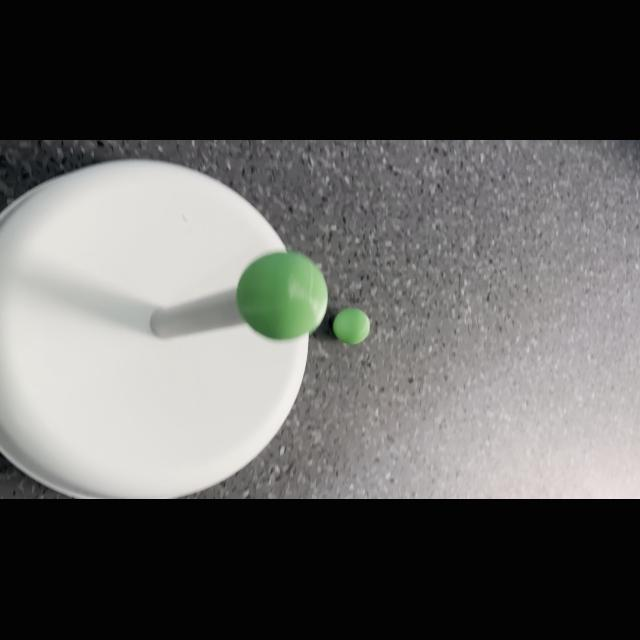objects: (236, 239, 330, 341), (331, 304, 374, 348)
